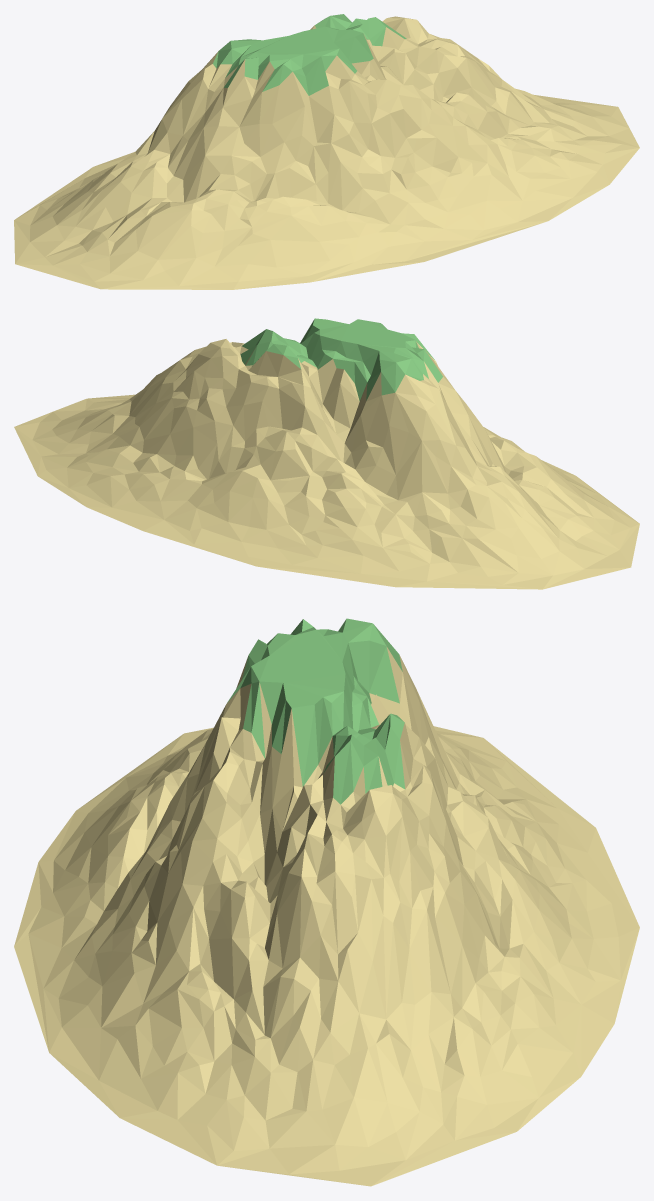
The model's file is gunung.fbx.
3 renders of one model, top to bottom at view 1: azimuth 30°, elevation 25°; view 2: azimuth 150°, elevation 25°; view 3: azimuth 270°, elevation 25°, orthographic. The views are drawn at different scales.
Parts seen in each view (by area): view 1: Landscape.005; view 2: Landscape.005; view 3: Landscape.005.
Boxes of the visible parts, box(x1,y1,x2,y2) form: Landscape.005: box(14, 14, 639, 289); Landscape.005: box(14, 318, 639, 589); Landscape.005: box(14, 618, 639, 1186).
Size of the model in its own units: 25896 by 11797 by 47305.
